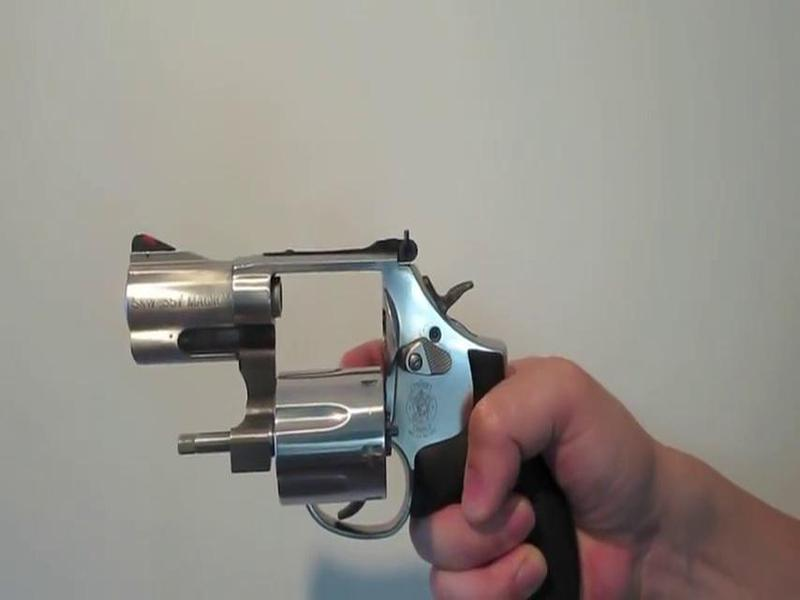Revolver: (127, 199, 574, 600)
